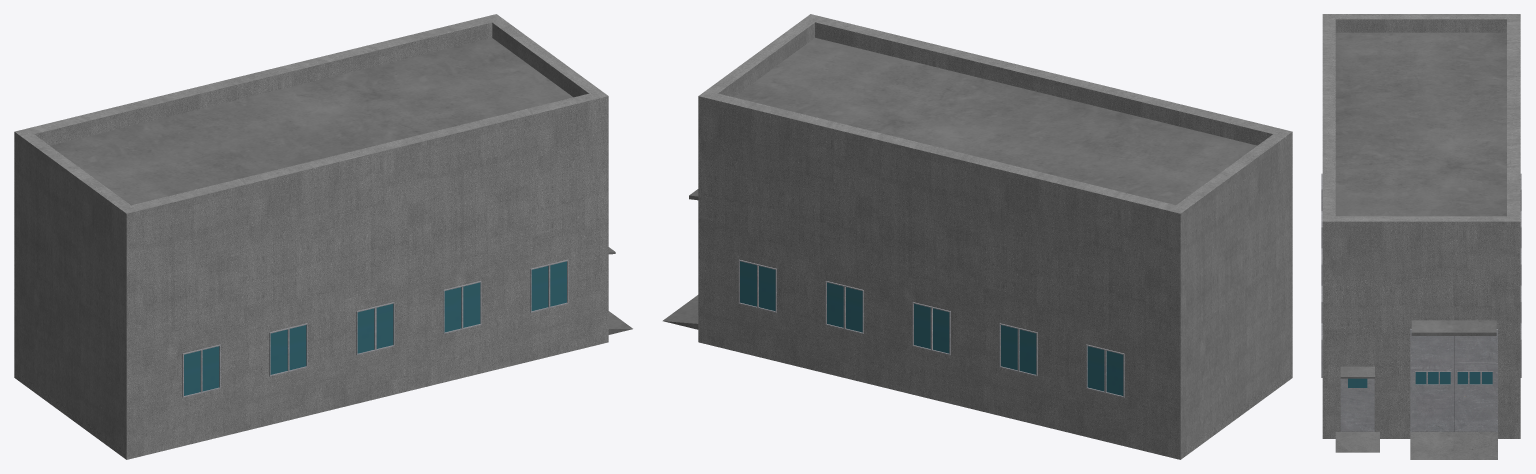
File: 成品变电所.glb
The picture shows the model from 3 angles, left to right: view 1: azimuth 30°, elevation 25°; view 2: azimuth 150°, elevation 25°; view 3: azimuth 270°, elevation 25°; orthographic projection. The views are drawn at different scales.
Parts seen in each view (by area): view 1: 成品变电所00, 成品变电所01, 成品变电所03, 成品变电所02; view 2: 成品变电所00, 成品变电所01, 成品变电所03, 成品变电所02; view 3: 成品变电所00, 成品变电所01, 成品变电所02, 成品变电所03.
Part boxes in pixels (<box>): 成品变电所00: <box>14,14,608,459</box>; 成品变电所01: <box>50,38,632,334</box>; 成品变电所03: <box>184,261,566,395</box>; 成品变电所02: <box>182,259,568,397</box>; 成品变电所00: <box>698,14,1292,459</box>; 成品变电所01: <box>663,37,1256,329</box>; 成品变电所03: <box>740,261,1123,395</box>; 成品变电所02: <box>738,259,1124,397</box>; 成品变电所00: <box>1322,14,1520,438</box>; 成品变电所01: <box>1335,32,1506,459</box>; 成品变电所02: <box>1321,173,1521,432</box>; 成品变电所03: <box>1348,372,1492,387</box>.
Bounding box in the file's own units: 18.57 × 8.23 × 6.87.
Materials: 4 (4 with a texture image).
